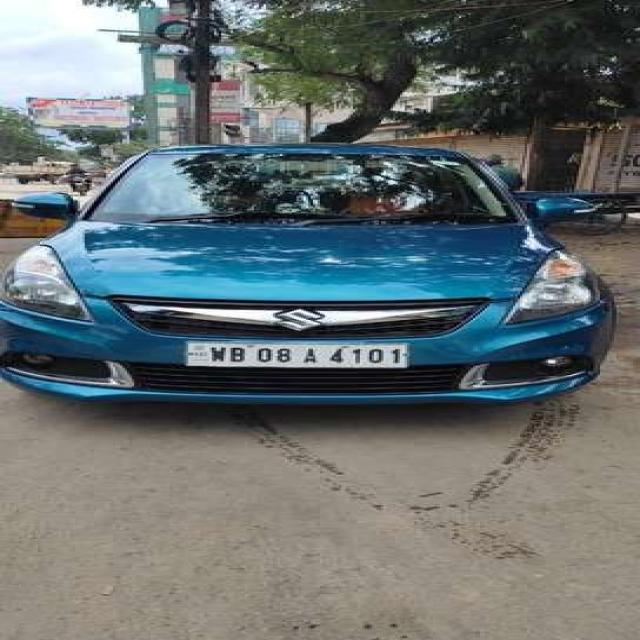Plate: (182, 341, 406, 368)
